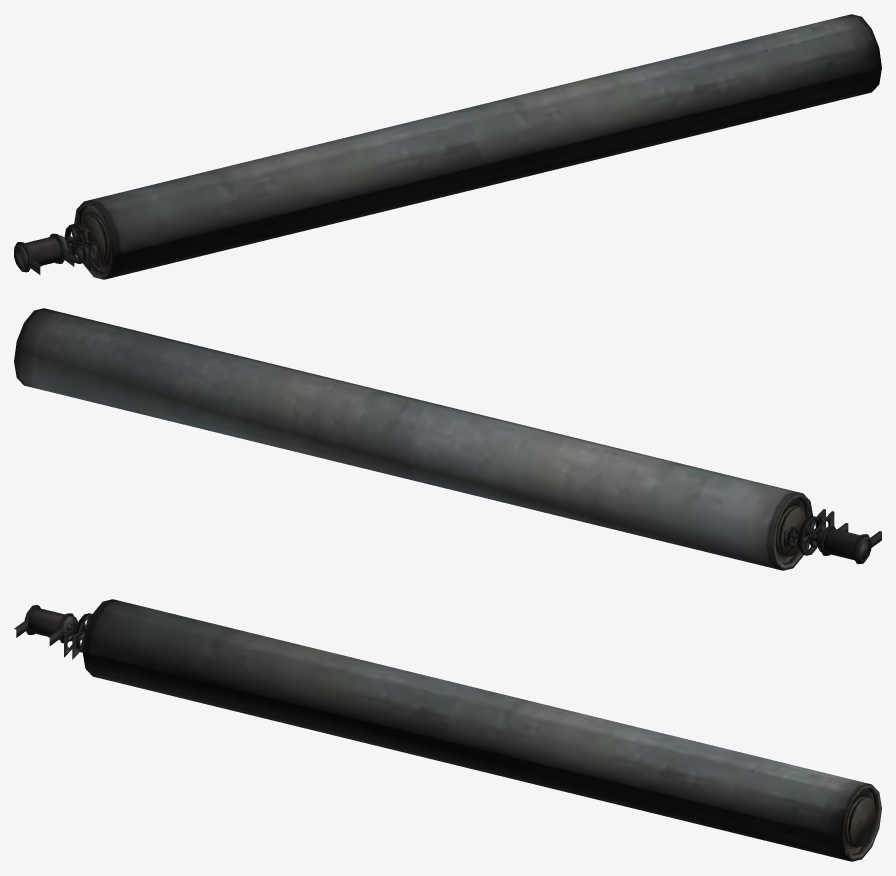
Rendered from rollup_doortoppart128.glb.
The picture shows the model from 3 angles, top to bottom: view 1: azimuth 30°, elevation 25°; view 2: azimuth 150°, elevation 25°; view 3: azimuth 330°, elevation 25°; orthographic projection.
Parts seen in each view (by area): view 1: 0_rollup_door01; view 2: 0_rollup_door01; view 3: 0_rollup_door01.
Boxes of the visible parts, x1,y1,x2,y2 form: 0_rollup_door01: (14,14,881,279); 0_rollup_door01: (14,308,881,570); 0_rollup_door01: (14,599,881,861).
Bounding box in the file's own units: 3.57 × 0.2967 × 0.2967.
Materials: 1 (1 with a texture image).
